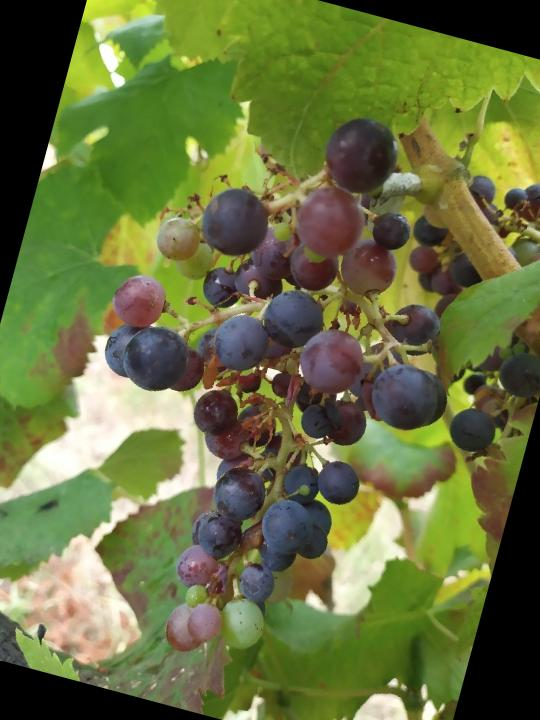grape: (19, 59, 518, 704)
